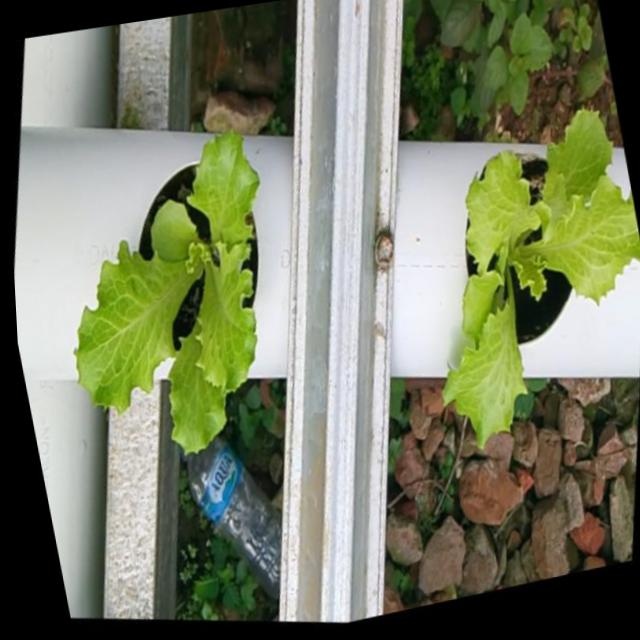Baby: (435, 113, 639, 448), (68, 135, 253, 458)
